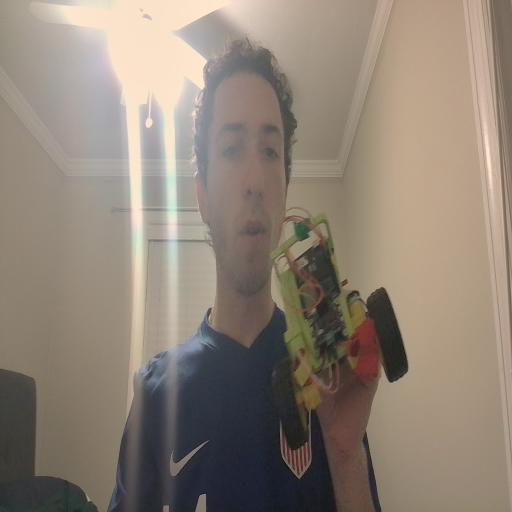green LEGO minifig: (291, 216, 312, 244)
